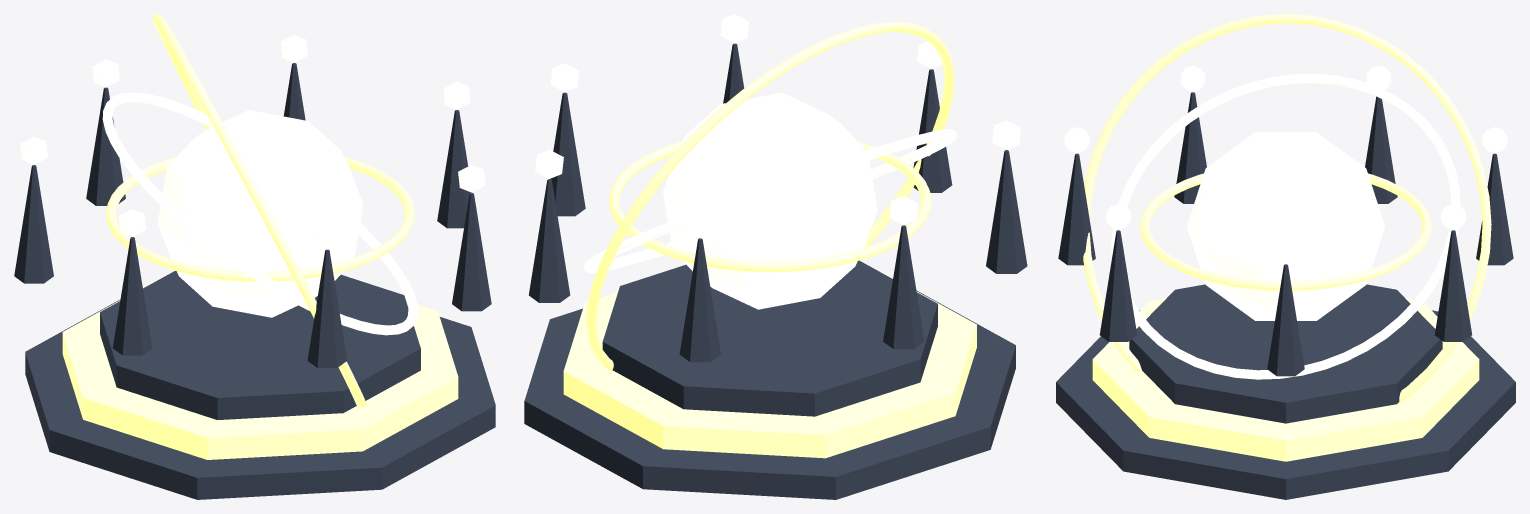
File: gpu-blender-v36.glb
3 renders of one model, left to right at view 1: azimuth 30°, elevation 25°; view 2: azimuth 150°, elevation 25°; view 3: azimuth 270°, elevation 25°, orthographic. The views are drawn at different scales.
Visible parts, largest first — view 1: Cylinder.002, SovereignCore_zoth-bot, Cylinder, Cylinder.001, Torus.001, Torus, Torus.002, Cone.006, Cone.003, Cone.004, Cone.005, Cone (+9 smaller); view 2: Cylinder.002, SovereignCore_zoth-bot, Cylinder, Cylinder.001, Torus.002, Torus.001, Torus, Cone.003, Cone.002, Cone.004, Cone.001, Cone (+8 smaller); view 3: SovereignCore_zoth-bot, Cylinder.002, Cylinder, Cylinder.001, Torus.002, Torus.001, Torus, Cone, Cone.001, Cone.006, Cone.005, Cone.002 (+8 smaller).
Part boxes in pixels (x1,y1,x2,y2): Cylinder.002: [100, 271, 420, 419]; SovereignCore_zoth-bot: [157, 110, 363, 317]; Cylinder: [25, 299, 495, 499]; Cylinder.001: [62, 279, 458, 459]; Torus.001: [102, 92, 418, 335]; Torus: [106, 156, 414, 281]; Torus.002: [153, 14, 366, 407]; Cone.006: [452, 193, 491, 311]; Cone.003: [14, 165, 53, 283]; Cone.004: [112, 237, 152, 355]; Cone.005: [307, 249, 347, 367]; Cone: [437, 110, 471, 228]; Cylinder.002: [602, 260, 937, 416]; SovereignCore_zoth-bot: [663, 92, 877, 309]; Cylinder: [524, 290, 1015, 499]; Cylinder.001: [563, 269, 976, 458]; Torus.002: [586, 21, 954, 371]; Torus.001: [584, 129, 956, 272]; Torus: [609, 141, 931, 272]; Cone.003: [883, 225, 924, 349]; Cone.002: [679, 238, 720, 362]; Cone.004: [986, 150, 1027, 273]; Cone.001: [529, 179, 570, 302]; Cone: [549, 92, 585, 216]; SovereignCore_zoth-bot: [1186, 132, 1385, 320]; Cylinder.002: [1129, 284, 1442, 423]; Cylinder: [1056, 310, 1515, 499]; Cylinder.001: [1092, 298, 1479, 461]; Torus.002: [1083, 14, 1491, 403]; Torus.001: [1111, 73, 1460, 379]; Torus: [1140, 173, 1431, 290]; Cone: [1267, 264, 1304, 376]; Cone.001: [1434, 230, 1472, 341]; Cone.006: [1099, 230, 1137, 341]; Cone.005: [1058, 153, 1095, 265]; Cone.002: [1476, 153, 1513, 265].
Bounding box in the file's own units: 4.41 × 3.72 × 4.4.
